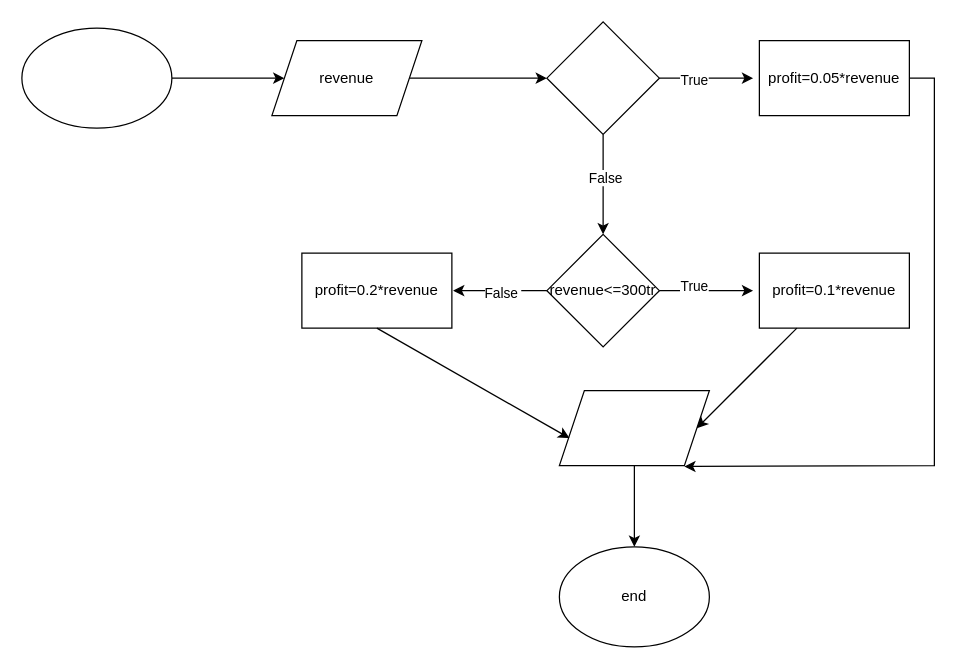
This 966x669 diagram has some shape labels left out. The shapes that lost their labels are listed below. From the top down, each one's box as (x1, y1, x2, y2) in pixels, then its label:
(21, 27, 172, 128): start
(546, 21, 659, 134): revenue<=100tr
(558, 389, 709, 466): profit
